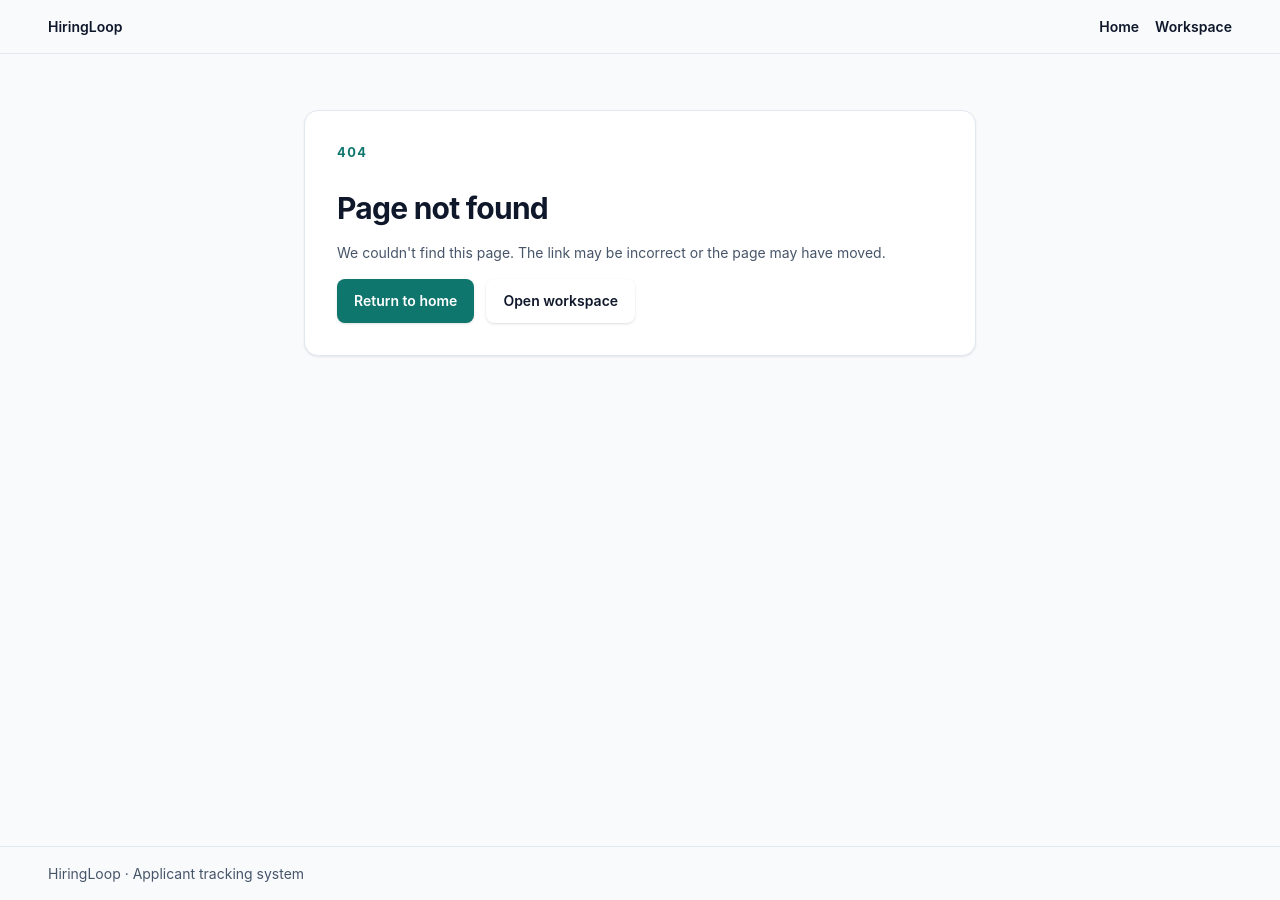
Test case: public landing and recovery › offers workspace recovery on an authenticated public 404
The width and height of the screenshot is (1280, 900).
Click the link "Open workspace": x=561, y=301 [486,279,635,323]
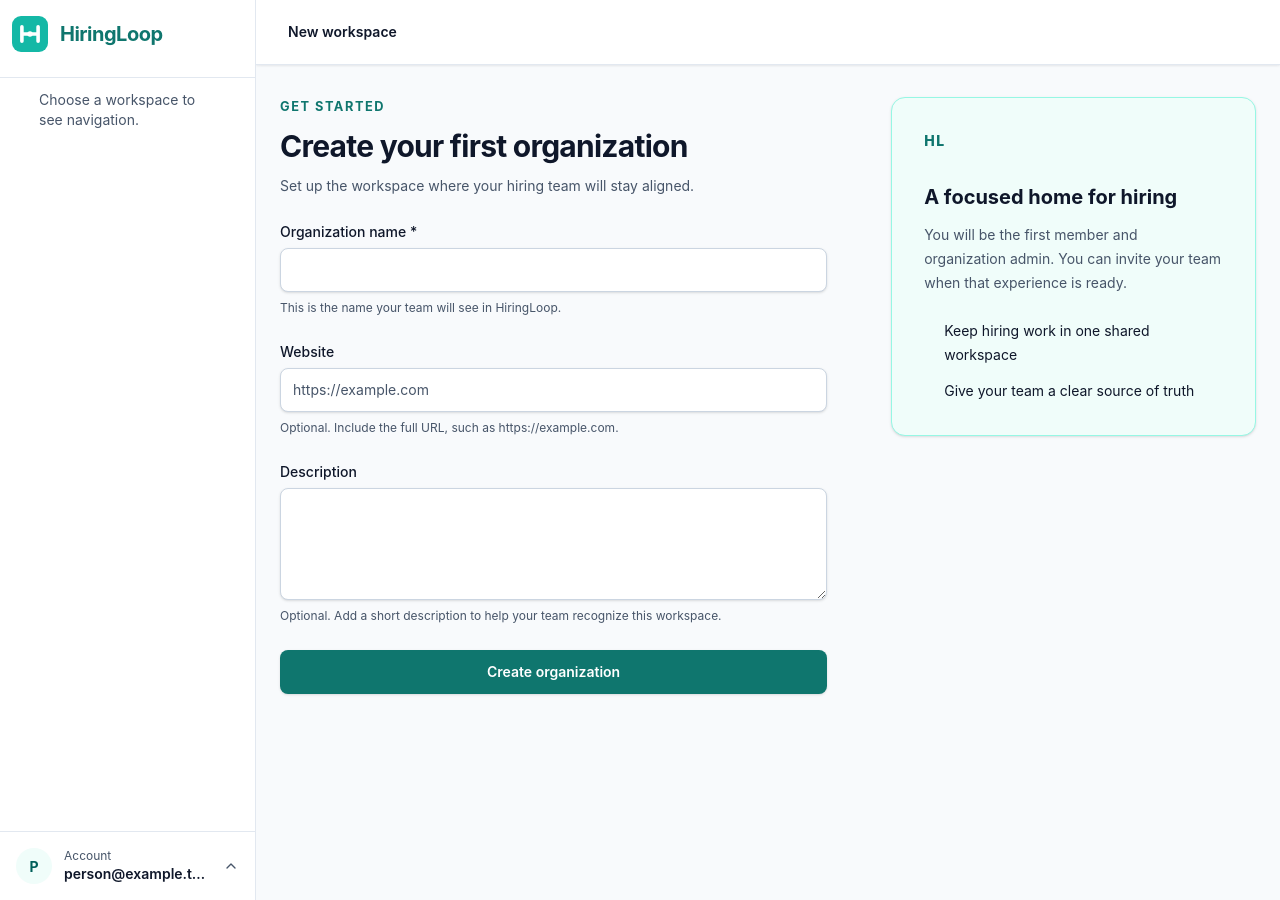
Expected: the heading "Create your first organization" is shown, [280,128,688,164]
